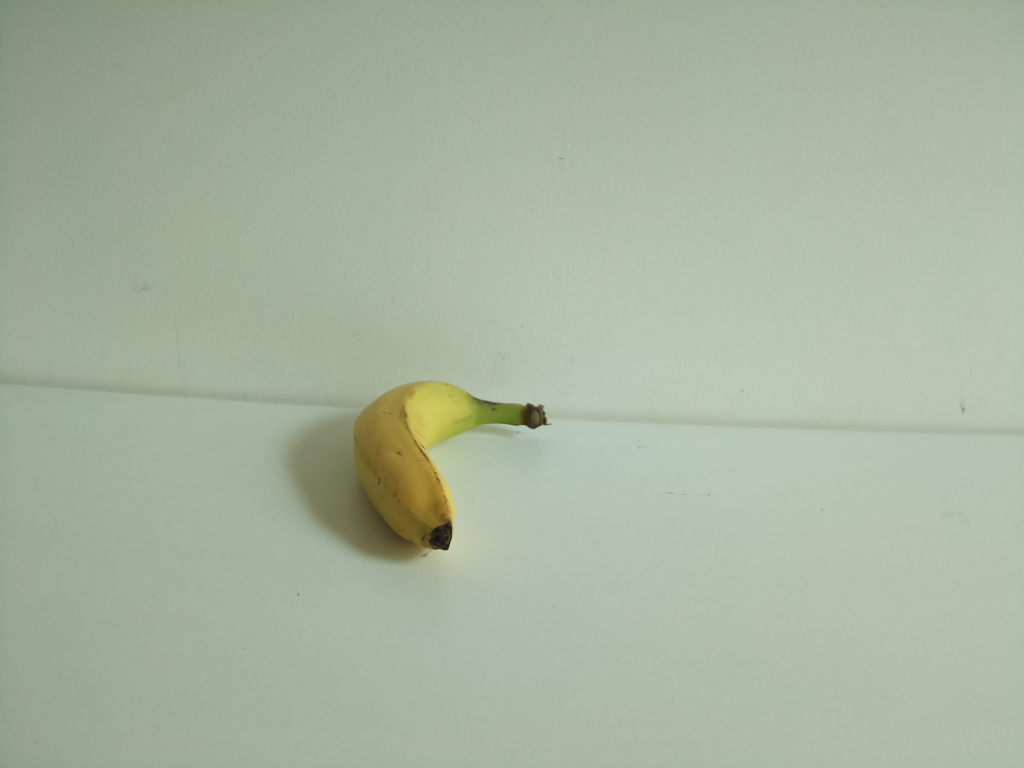banana: (354, 380, 549, 554)
